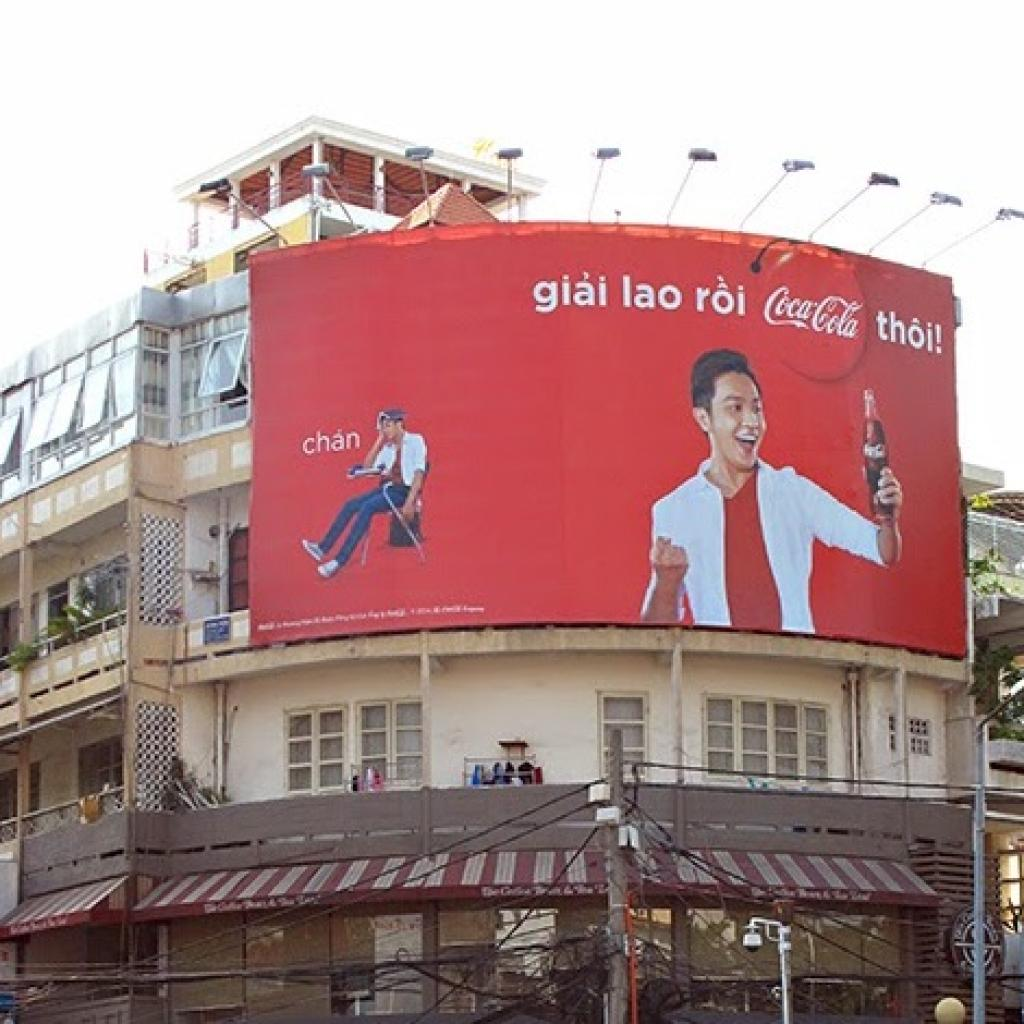text: (758, 283, 870, 342), (874, 305, 948, 362), (532, 266, 610, 318), (621, 268, 686, 316), (695, 270, 749, 320), (301, 422, 366, 460)
